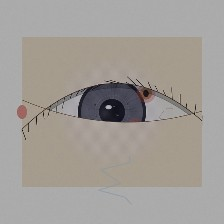foreign_body_visible: (126, 118, 144, 133)
